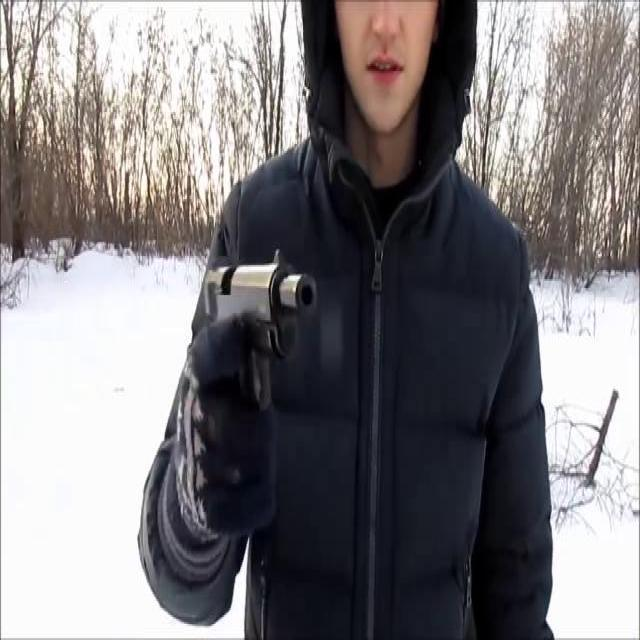pistol: (202, 245, 320, 416)
